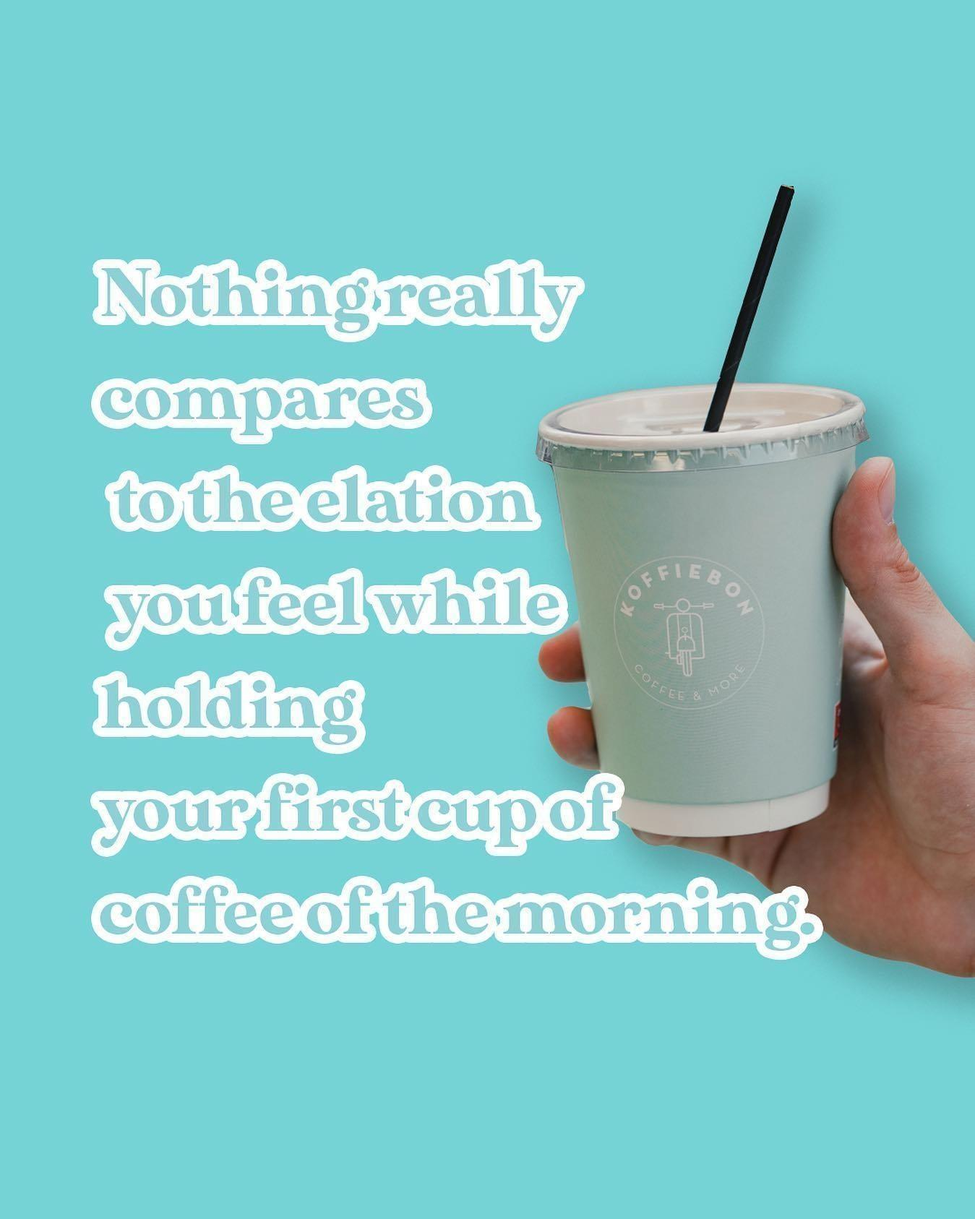cup-disposable: (531, 367, 880, 853)
